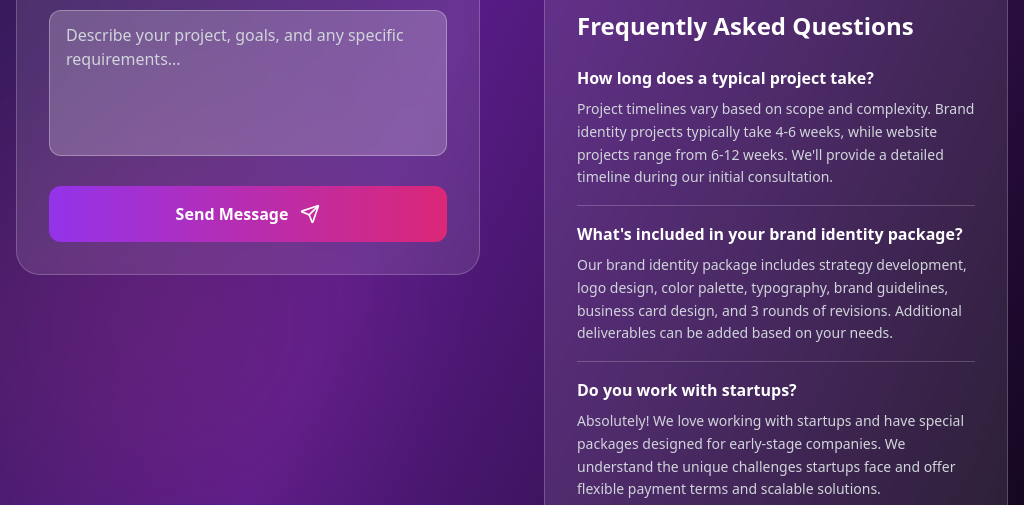
it: ContactSection › clears a field's error as soon as the user edits it
(page scrolled)
Click the button "Send Message" at (248, 214), box [49,186,447,242]
(page scrolled)
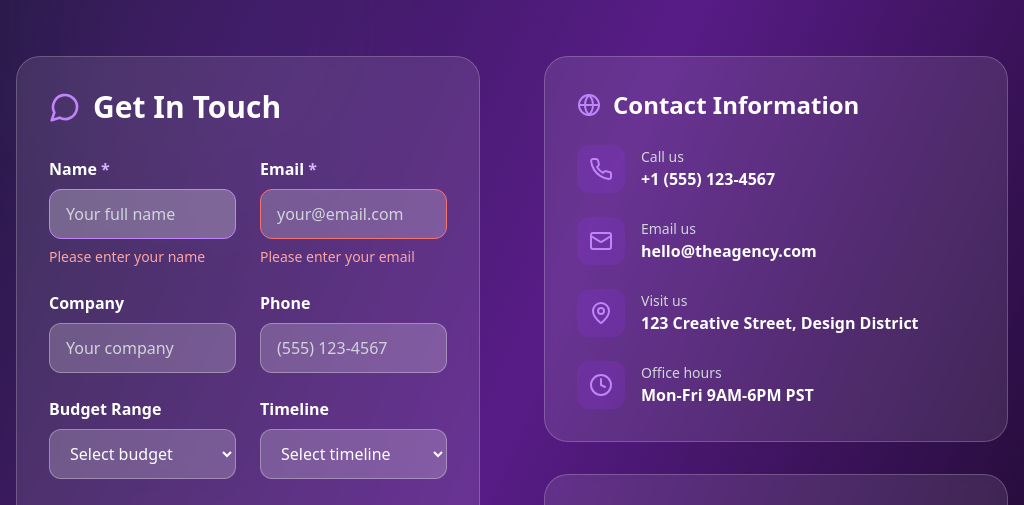
Type "Ada" into the field labelled "Name *" at (142, 214), box [49,189,236,239]
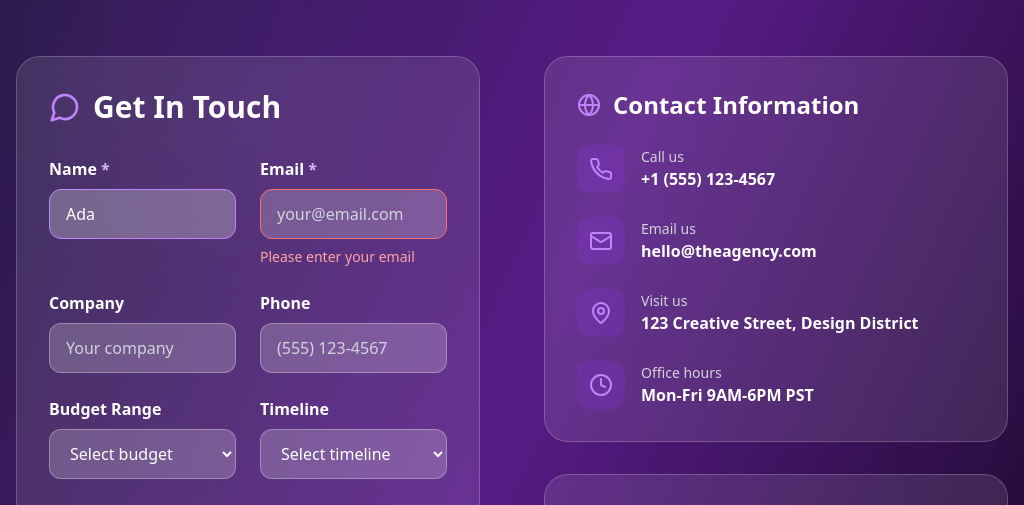
Result: the text "Please enter your email" is shown at [260,247,415,266]
Result: the text "Please enter your name" is gone
